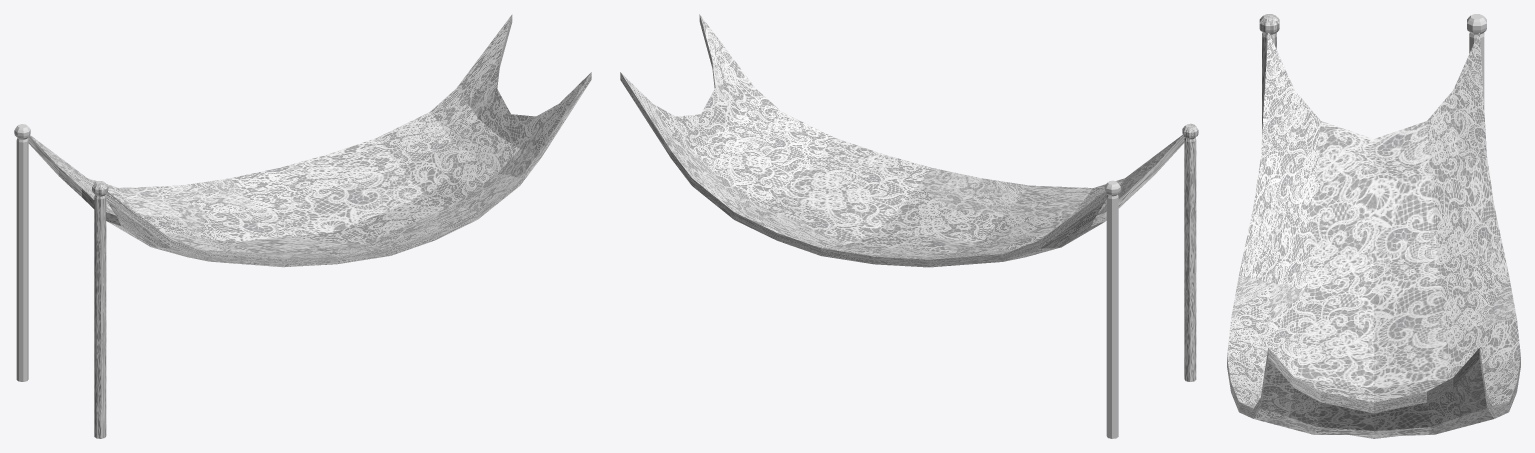
File: HammockTexture.fbx
The picture shows the model from 3 angles, left to right: view 1: azimuth 30°, elevation 25°; view 2: azimuth 150°, elevation 25°; view 3: azimuth 270°, elevation 25°; orthographic projection. The views are drawn at different scales.
Parts seen in each view (by area): view 1: Cube.001, Cube, Cube.002; view 2: Cube.001, Cube, Cube.002; view 3: Cube.001, Cube, Cube.002.
Part boxes in pixels (left/top/right/bottom): Cube.001: left=28, top=14, right=591, bottom=267; Cube: left=92, top=181, right=108, bottom=438; Cube.002: left=14, top=124, right=30, bottom=381; Cube.001: left=620, top=14, right=1184, bottom=267; Cube: left=1182, top=123, right=1198, bottom=381; Cube.002: left=1104, top=180, right=1120, bottom=438; Cube.001: left=1227, top=33, right=1520, bottom=438; Cube: left=1259, top=14, right=1279, bottom=134; Cube.002: left=1467, top=14, right=1486, bottom=105.
Bounding box in the file's own units: 725 × 353 × 278.
